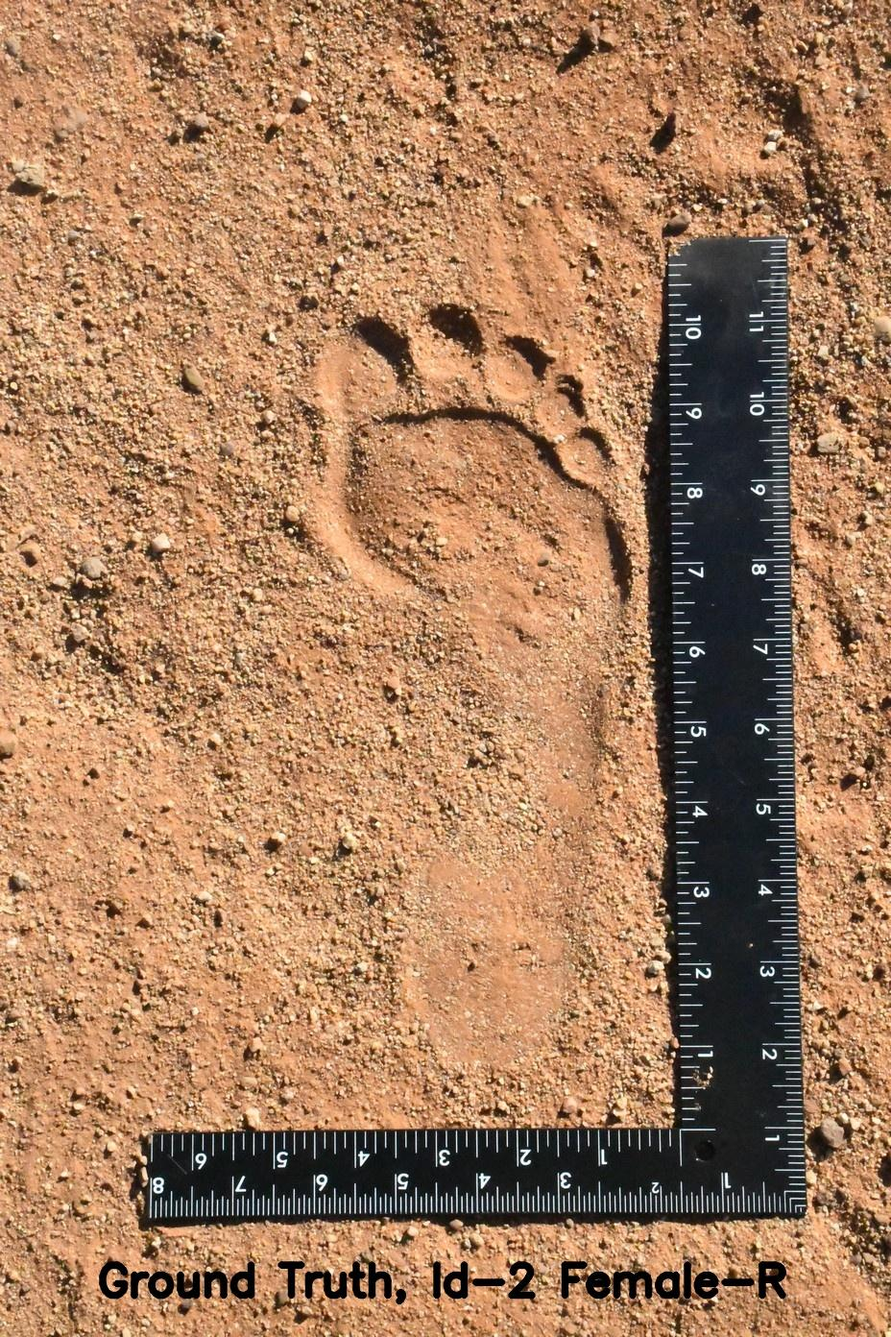human_foot_print: (298, 260, 653, 1088)
